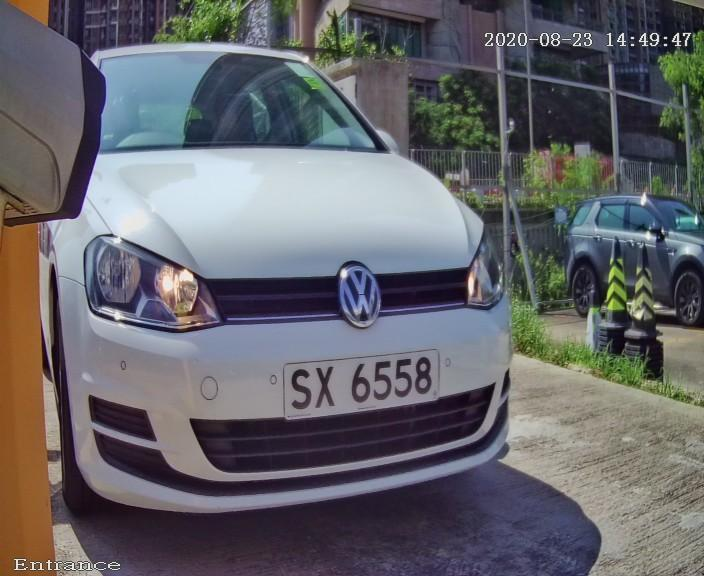Car: (4, 6, 576, 559)
License Plate: (255, 331, 468, 429)
